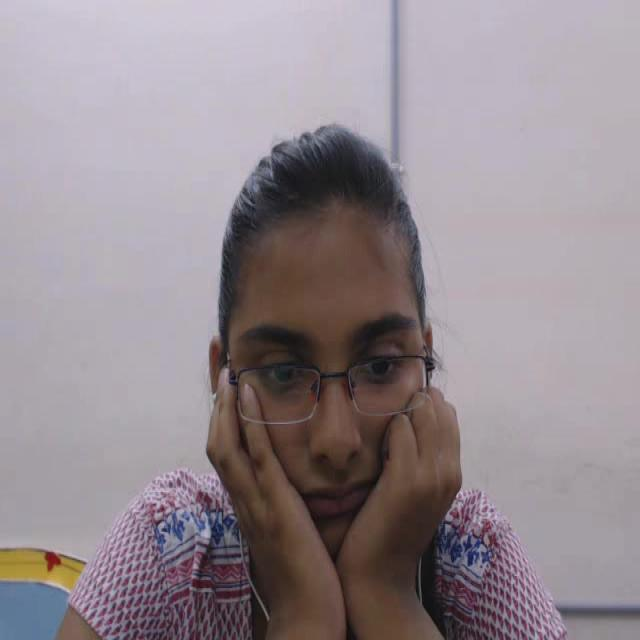Bored: (170, 100, 549, 640)
